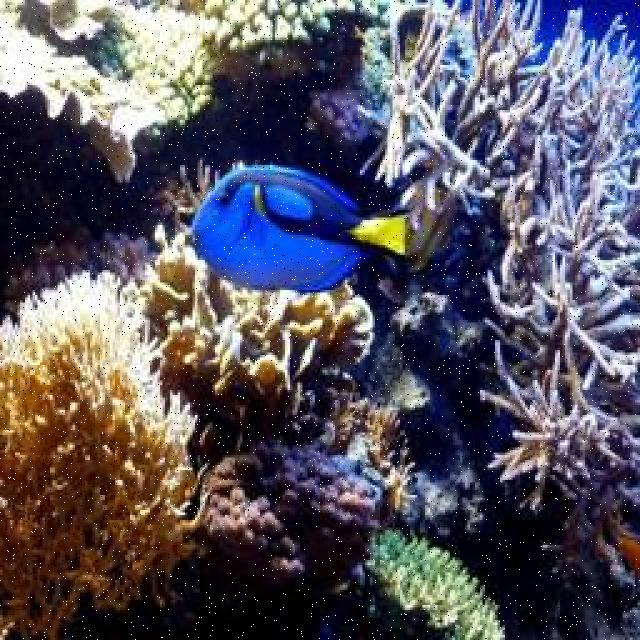fish: (190, 165, 416, 293)
reefs: (357, 0, 638, 586), (0, 268, 211, 638), (139, 220, 378, 435), (351, 528, 508, 638)
